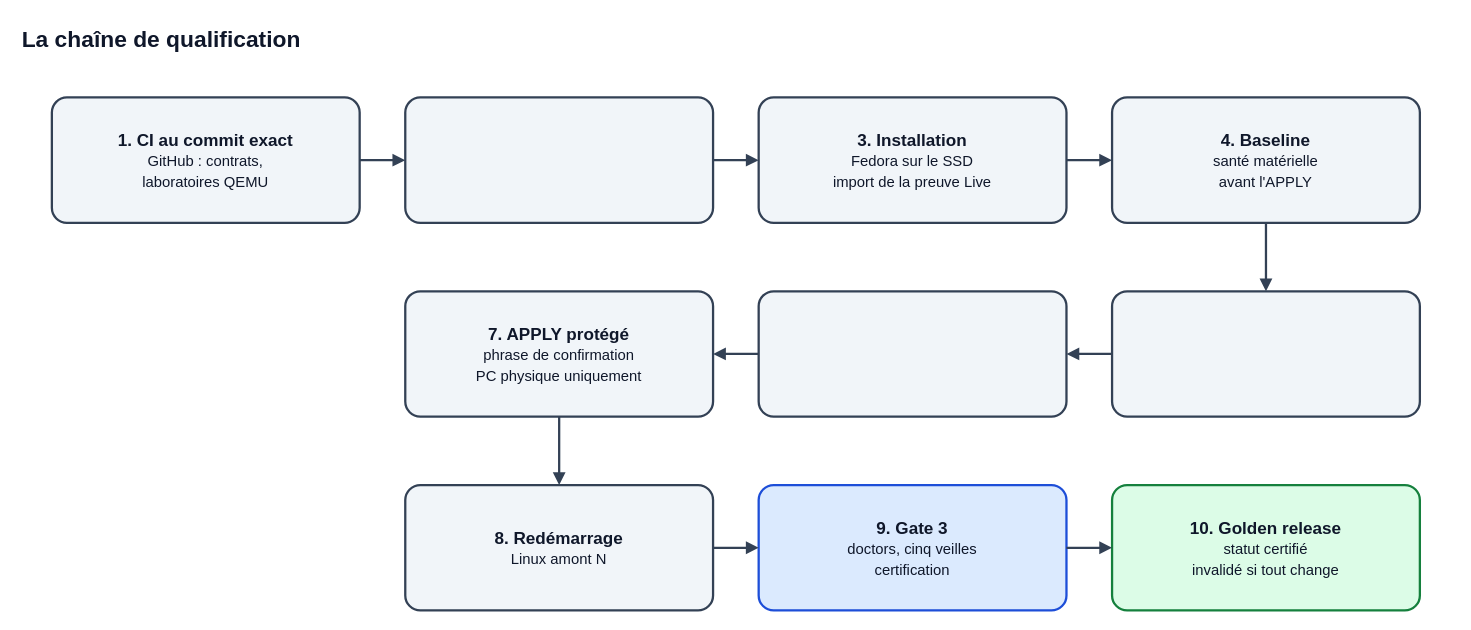
The diagram is 1471 pixels wide and 630 high, and some of its shapes have lost their labels. The centre of each missing label's shape, as x and y in pixels:
2. Live USB sur le PC PREINSTALL_ONLY preuve exportée: the point at 559,159
5. Dry-run toutes les mutations neutralisées: the point at 1265,353
6. Sauvegarde Borg pré-APPLY vérifiée, canari restauré: the point at 912,353
